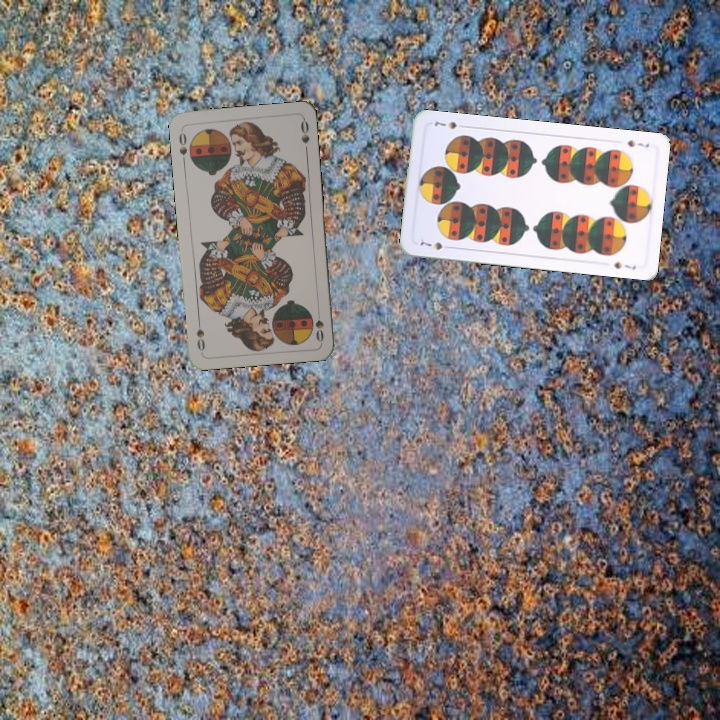S7: (416, 238, 454, 253), (623, 136, 652, 150)
SO: (311, 304, 326, 344), (175, 126, 190, 166)
